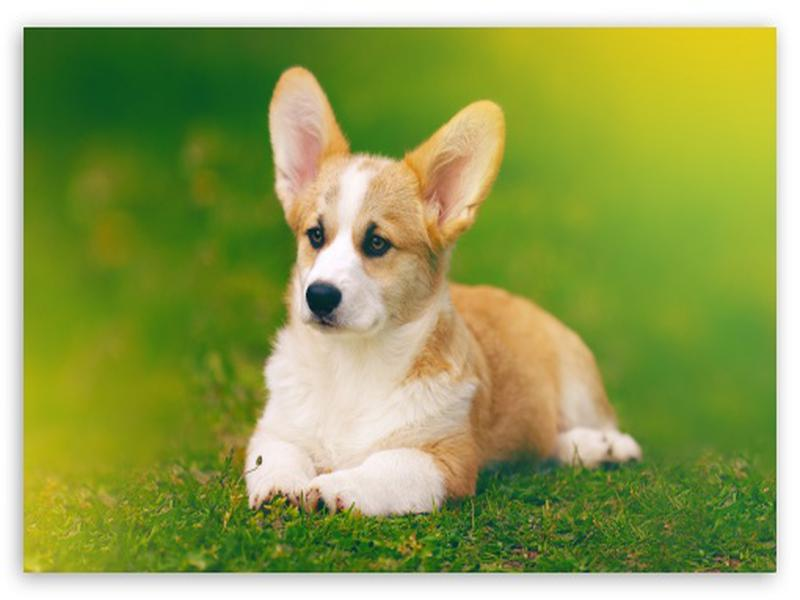corgi: (265, 63, 509, 335)
